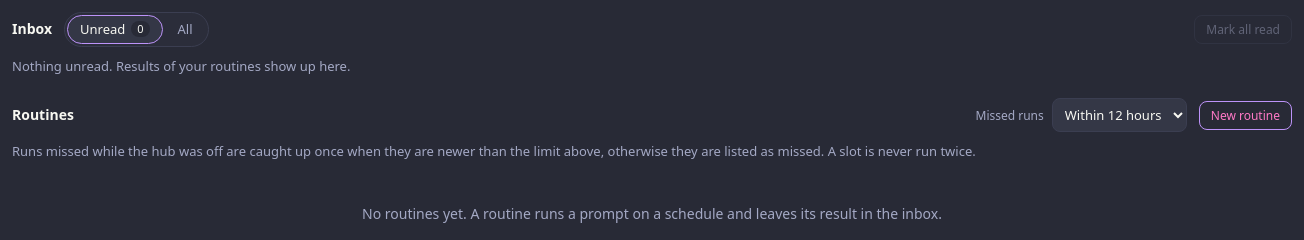
it: an empty All list says no routine has finished
The image size is (1304, 240).
Click the button "All". click: (185, 29)
box: left=165, top=15, right=206, bottom=44
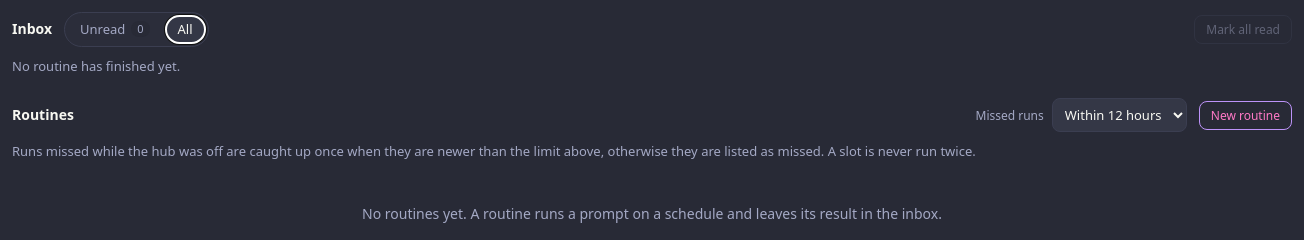
Now the text "No routine has finished yet." is shown, box left=12, top=57, right=180, bottom=75
